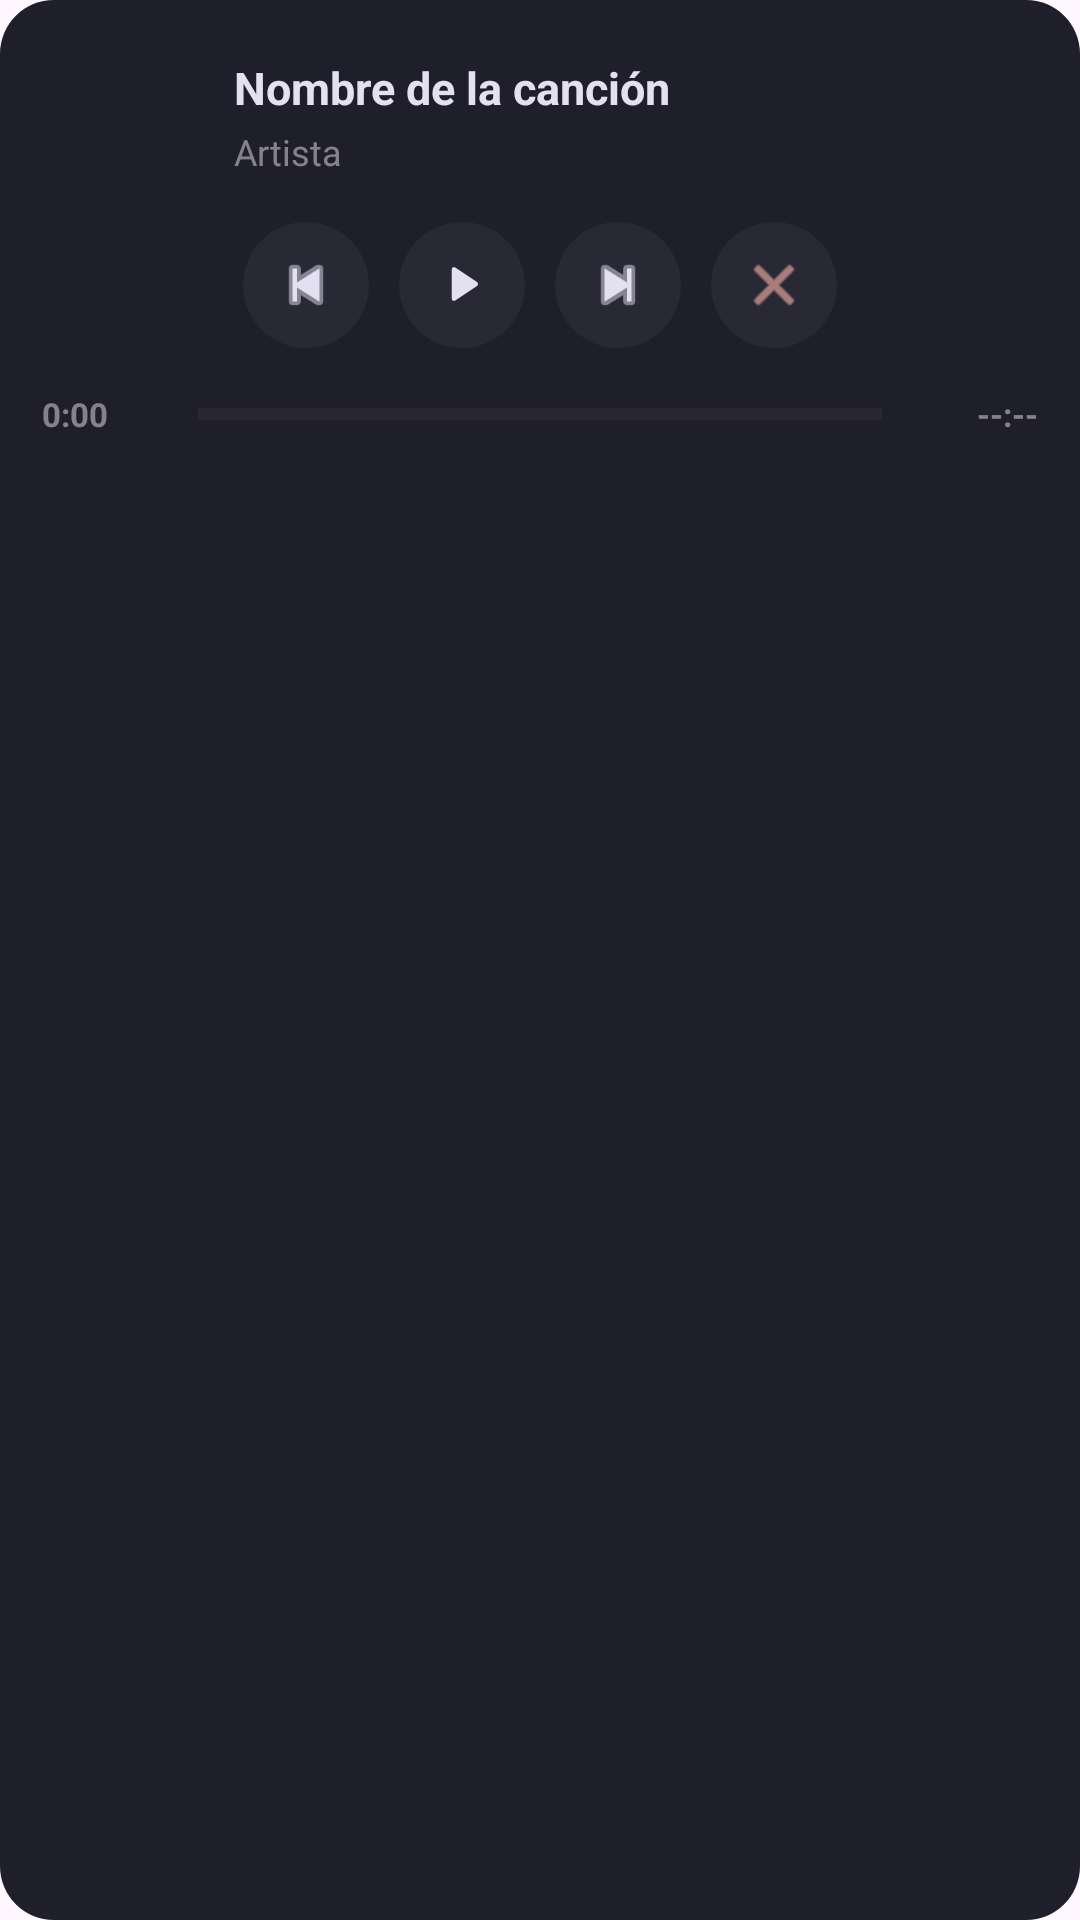

Named icons in this screenshot (1080 x 1920) and their centers, [x,y]:
Anterior: [306,285]
Detener: [774,285]
Reproducir o pausar: [464,284]
Siguiente: [618,285]
